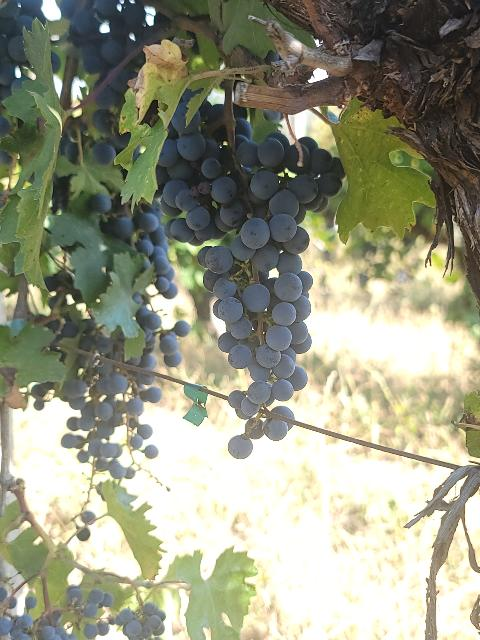grapes: (159, 119, 344, 458), (61, 356, 159, 478), (102, 206, 178, 299)
